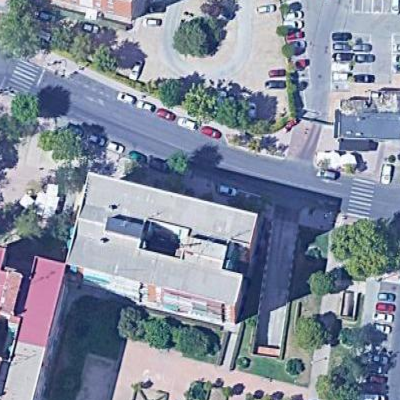tree: (330, 216, 396, 272), (2, 2, 46, 63), (37, 125, 91, 162), (170, 17, 213, 60), (173, 325, 219, 357), (293, 312, 332, 349), (115, 302, 149, 343), (188, 79, 217, 125), (7, 87, 41, 125), (221, 90, 252, 131), (316, 373, 363, 400), (11, 206, 41, 243), (56, 22, 86, 59), (92, 39, 122, 75), (306, 267, 338, 299), (144, 314, 172, 349), (156, 73, 182, 110), (167, 147, 193, 178), (284, 355, 311, 380), (281, 40, 298, 59), (274, 22, 293, 39)
